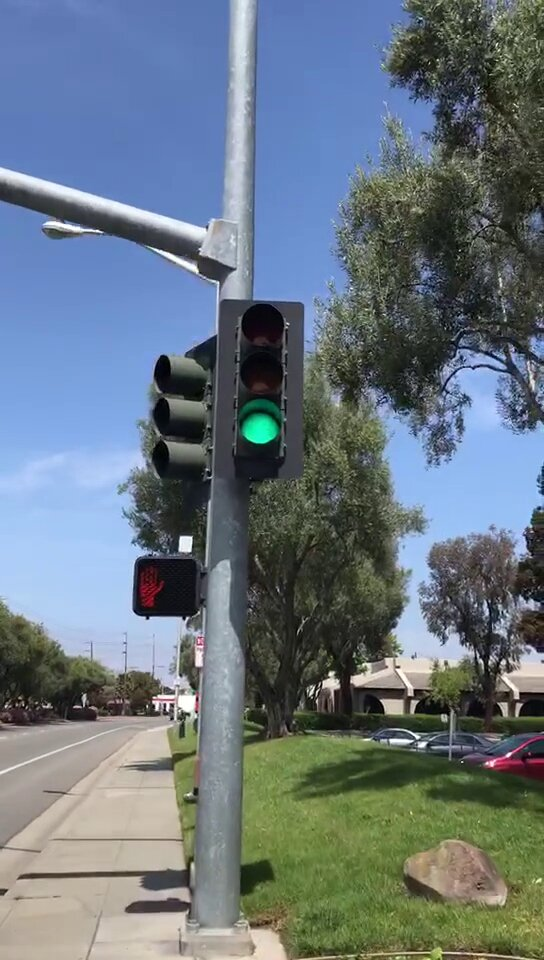green_light: (220, 300, 300, 478)
